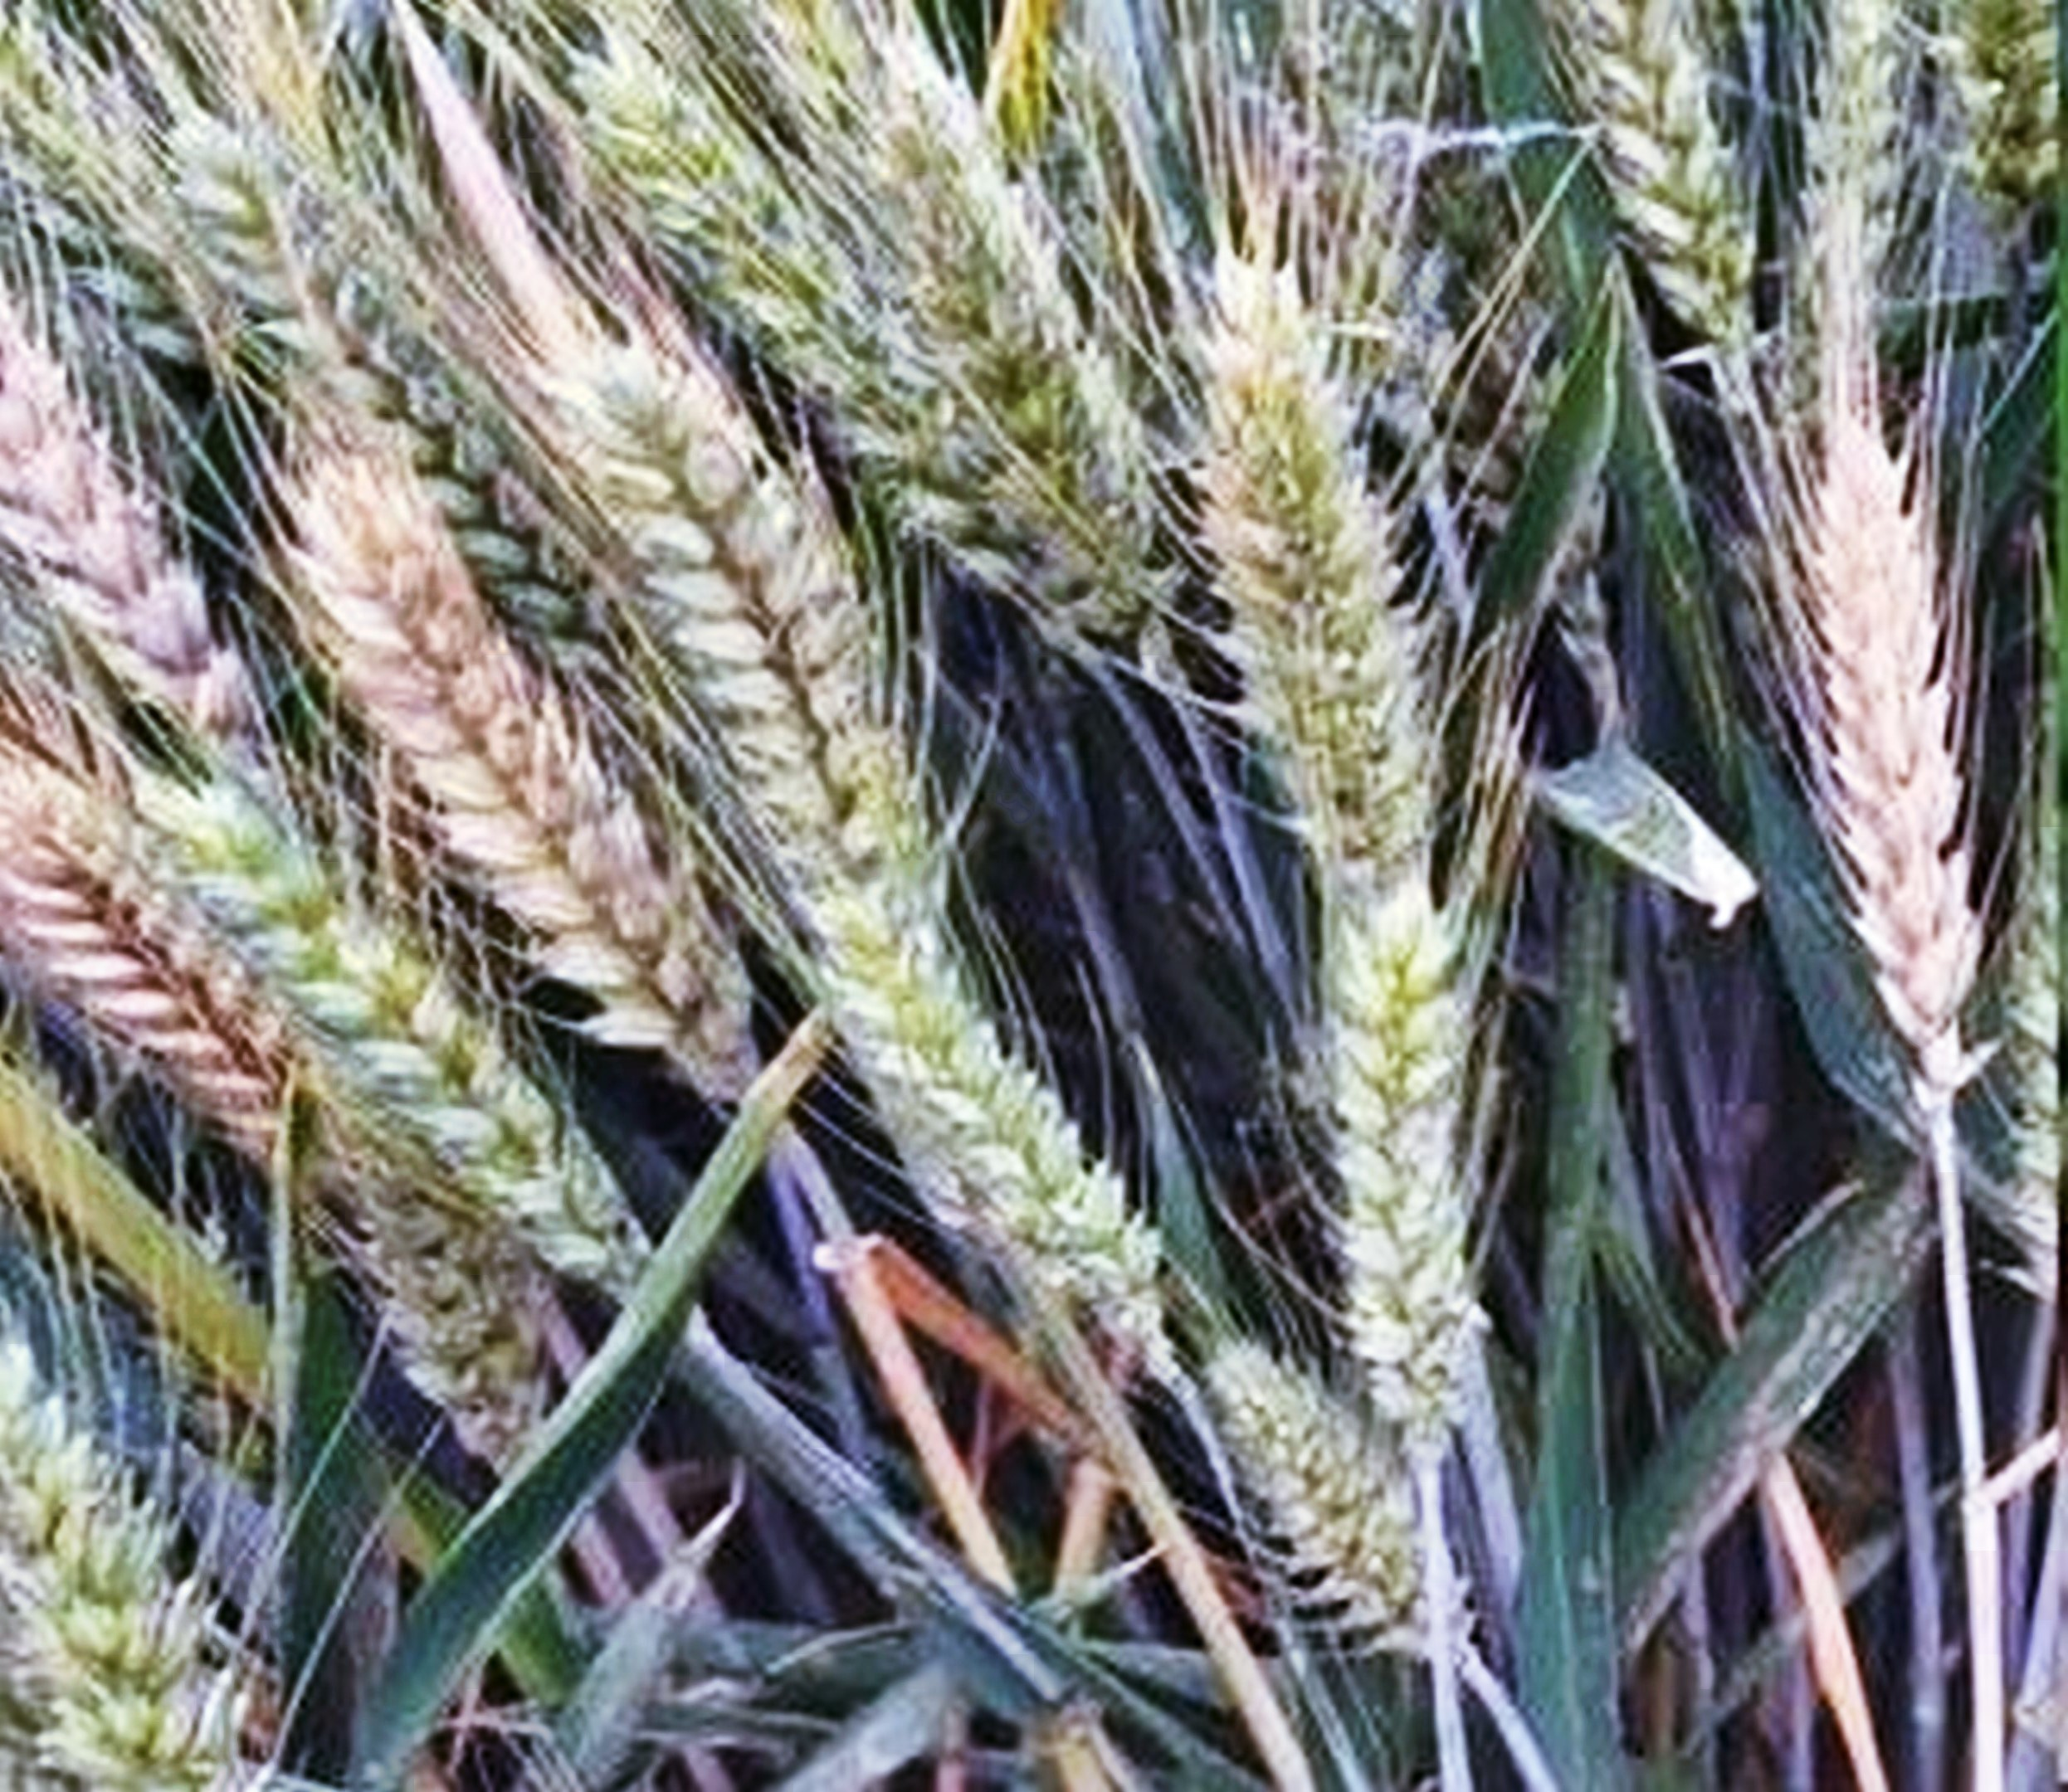Wheat scab: (1757, 383, 2036, 1136)
